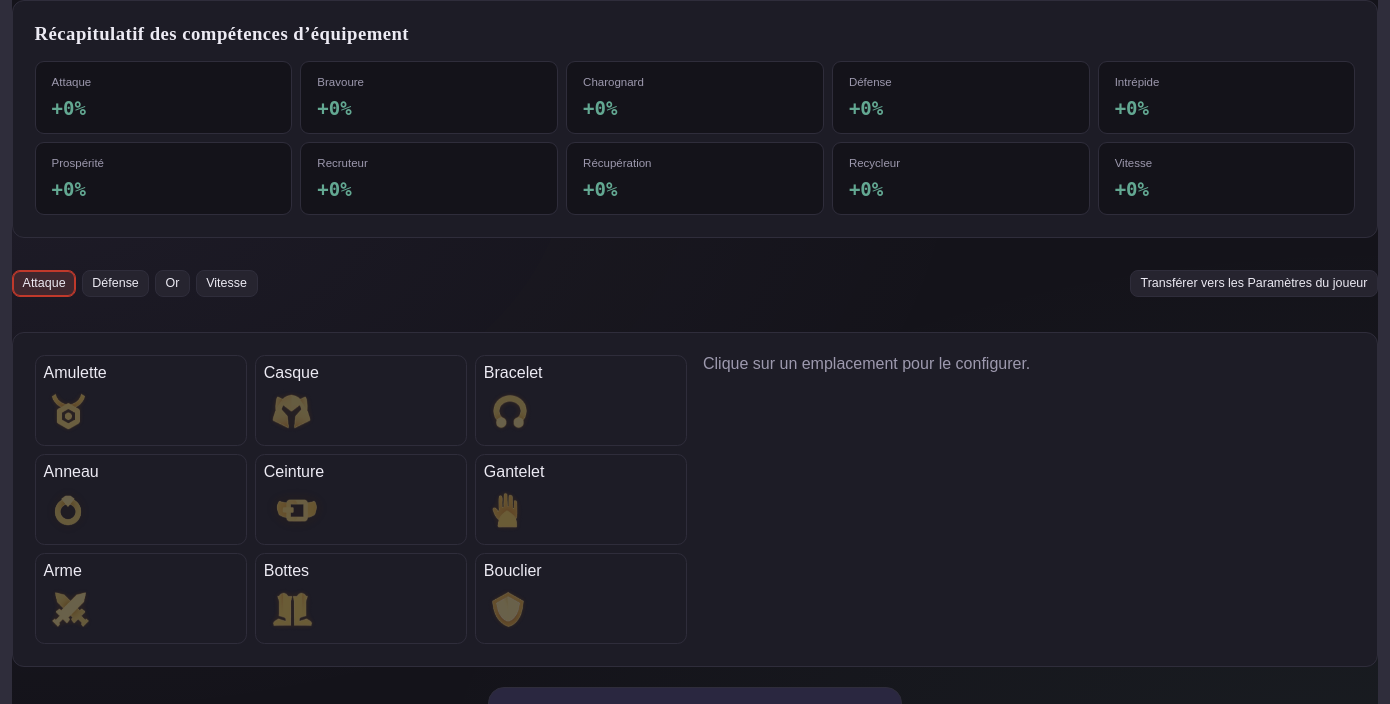
Test: equipment tools › shows one compact 'Gemme N' label per row and no separate gem-count heading
Click the button "Amulette". click: (141, 400)
box: [35, 354, 247, 446]
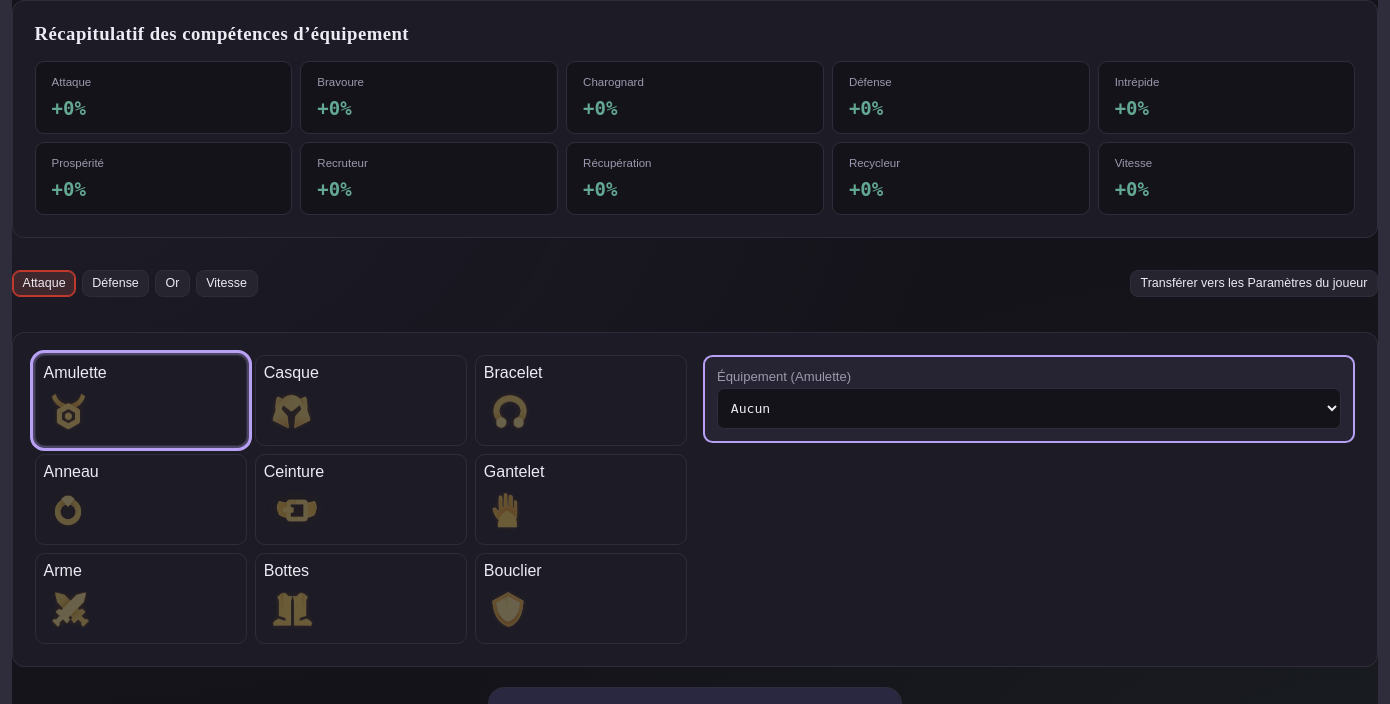
Select "Légendaire — Spirit Fyra (Attaque)" in the dropdown named "Équipement Attaque Amulette". click: (1029, 409)
box: [717, 388, 1341, 429]
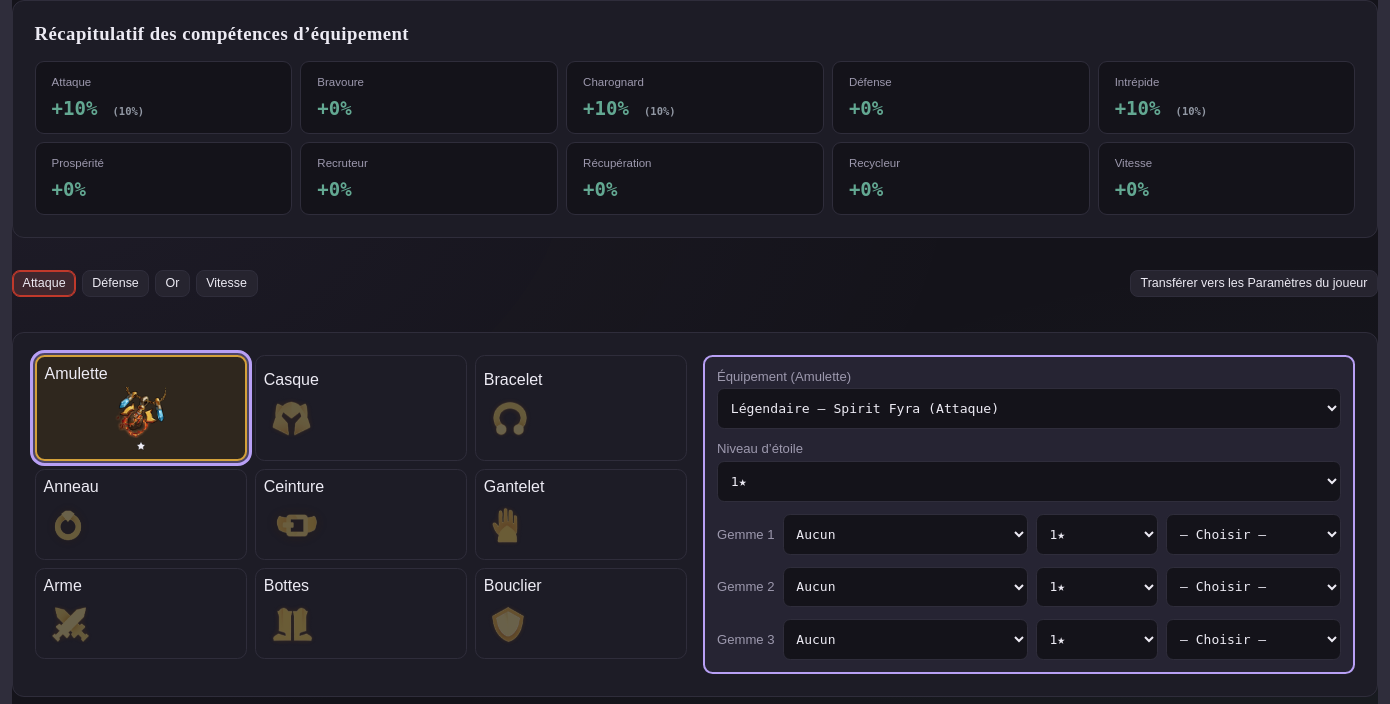
Expected: the text "Gemme 1" is shown, [717, 527, 775, 542]
Expected: the text "Gemme 2" is shown, [717, 579, 775, 594]
Expected: the text "Gemme 3" is shown, [717, 632, 775, 647]
